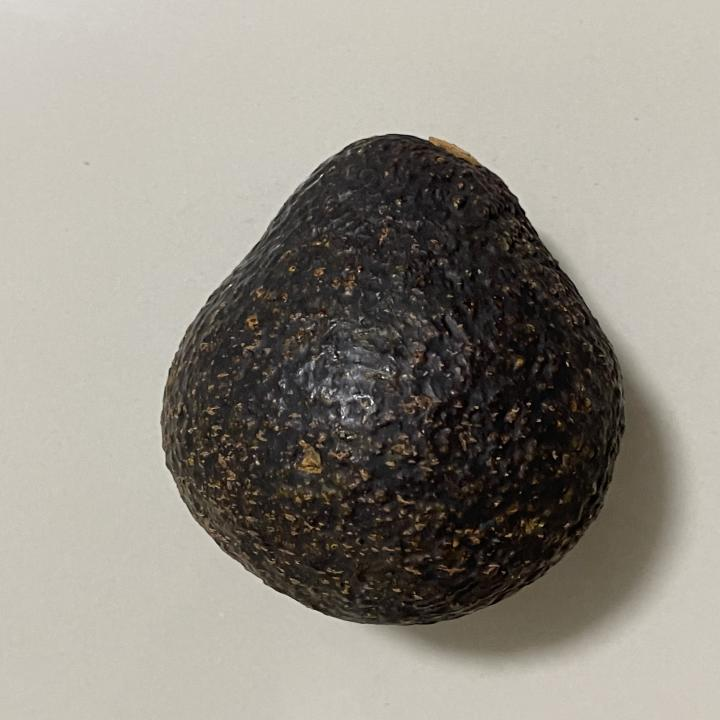Level1: (148, 120, 642, 646)
